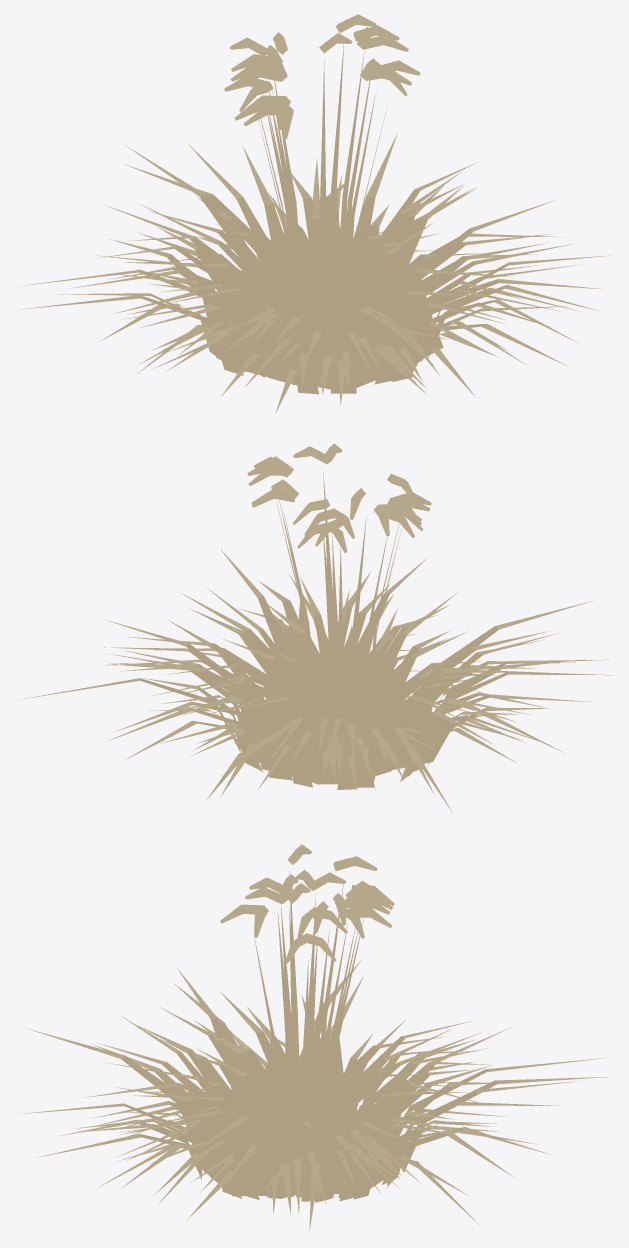
Rendered from Blender_BlueGrama_1.glb.
3 views of the same model, one above another, from view 1: azimuth 30°, elevation 25°; view 2: azimuth 150°, elevation 25°; view 3: azimuth 270°, elevation 25° (orthographic). The views are drawn at different scales.
Parts seen in each view (by area): view 1: Blender_BlueGrama_1; view 2: Blender_BlueGrama_1; view 3: Blender_BlueGrama_1.
Boxes of the visible parts, x1,y1,x2,y2 form: Blender_BlueGrama_1: (19, 14, 612, 412); Blender_BlueGrama_1: (20, 443, 613, 812); Blender_BlueGrama_1: (18, 844, 613, 1232).
Size of the model in its own units: 0.6487 by 0.358 by 0.6739.
